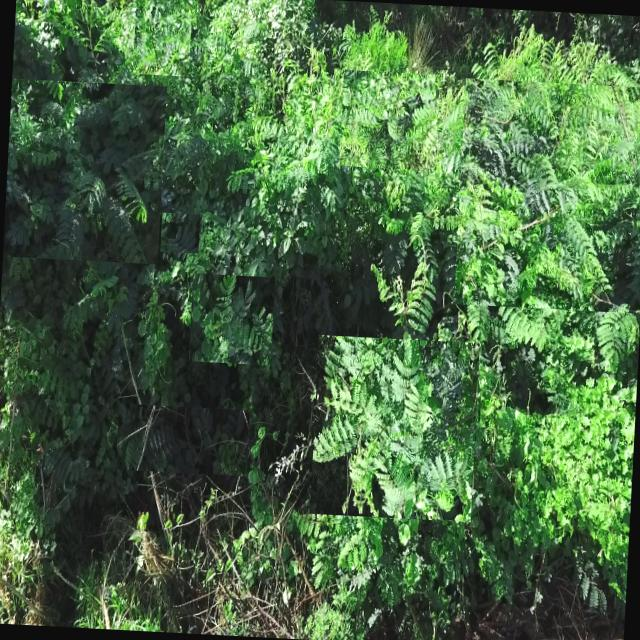Mysore-Thorn-Weed: (454, 78, 640, 313), (310, 335, 480, 522), (3, 78, 167, 264), (339, 70, 440, 171), (190, 117, 288, 219), (116, 404, 250, 476), (189, 274, 275, 366), (133, 0, 193, 77), (160, 212, 200, 254)
